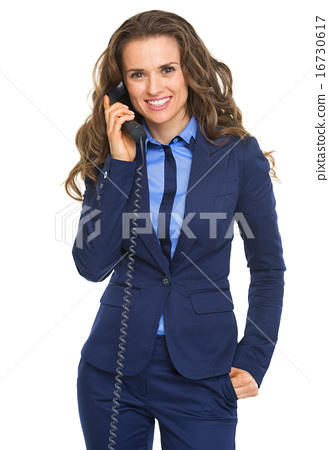phone: (103, 82, 150, 140)
talk: (101, 57, 184, 159)
